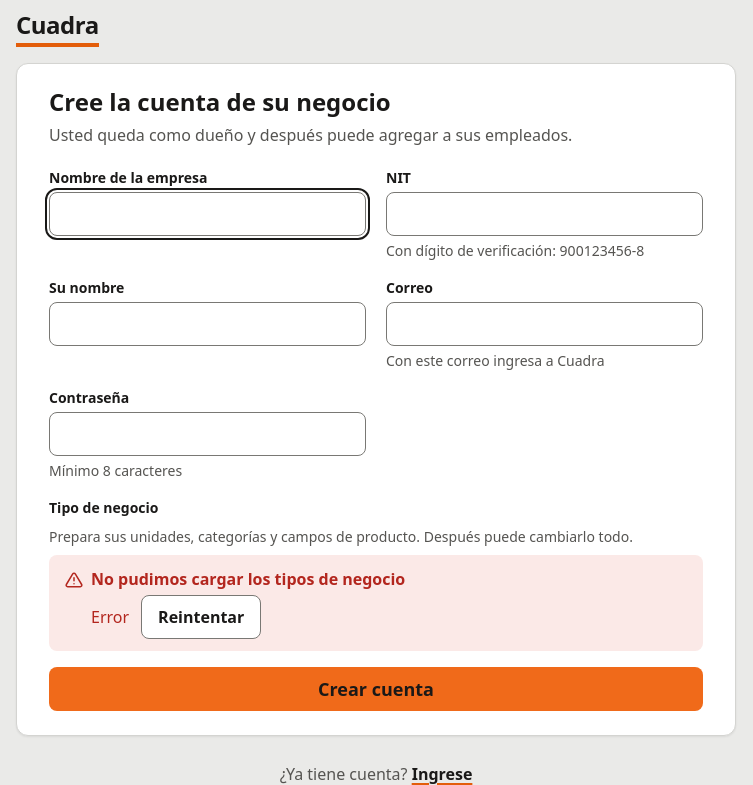
Scenario: SignUpPage › si los tipos de negocio no cargan, permite reintentar
The width and height of the screenshot is (753, 785).
What coordinates should you click on to do the following:
click the button "Reintentar"
I would click on:
 (201, 617)
Its box is [141,595,261,639].
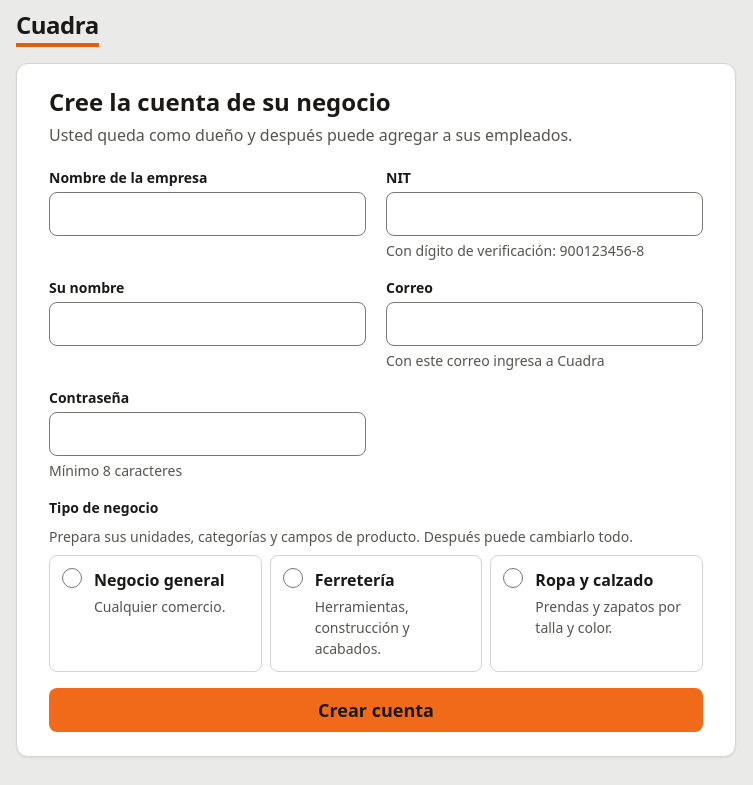
Expected: the radio button labelled "Ferretería Herramientas, construcción y acabados." is shown, [283,568,303,588]
